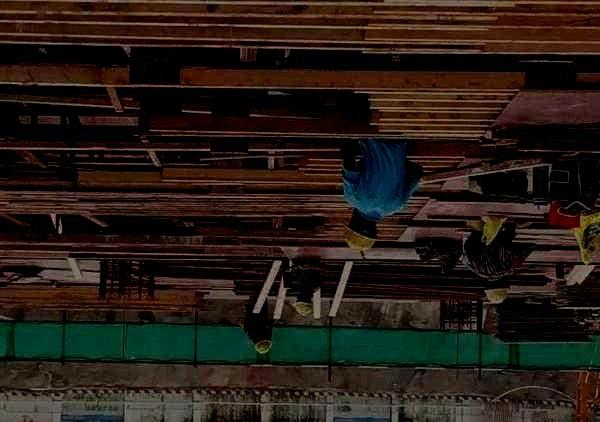helmet: (342, 208, 378, 251), (485, 280, 509, 304), (291, 295, 314, 317), (253, 340, 272, 354)
